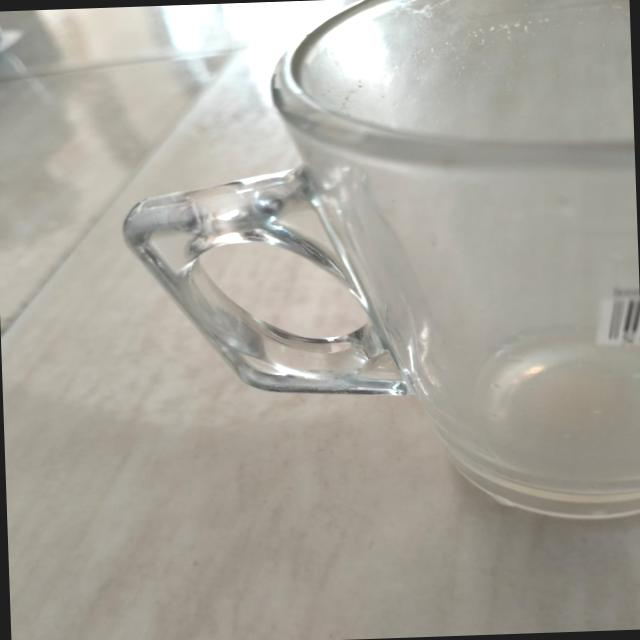glass-VX4N: (111, 0, 640, 541)
